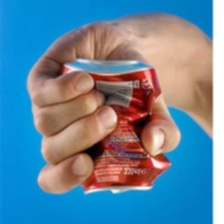can: (56, 52, 175, 201)
